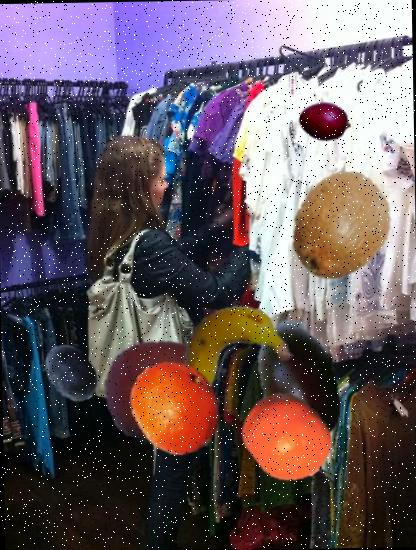Banana: (180, 300, 286, 406)
Blueberry: (39, 342, 102, 405)
Clementine: (124, 357, 228, 462), (240, 390, 334, 483)
Eggplant: (234, 314, 365, 444)
Kiwi: (284, 168, 399, 283)
Pomegranate: (102, 336, 215, 449)
Tamarillo: (298, 94, 352, 148)
